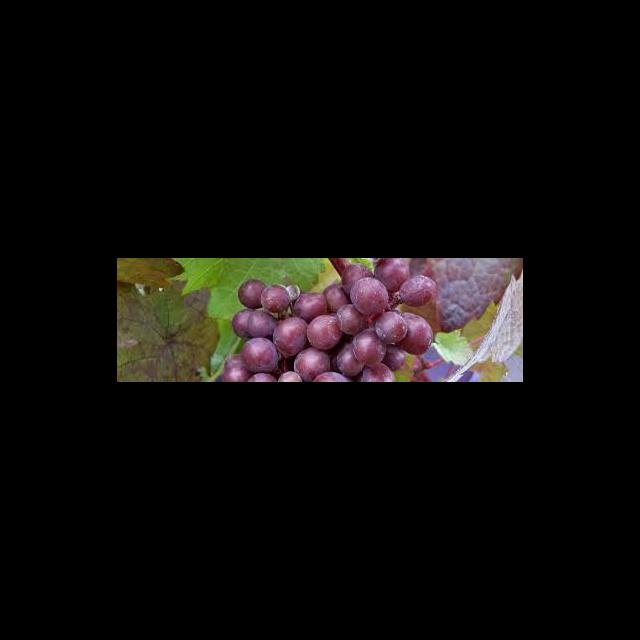grape: (220, 258, 439, 381)
